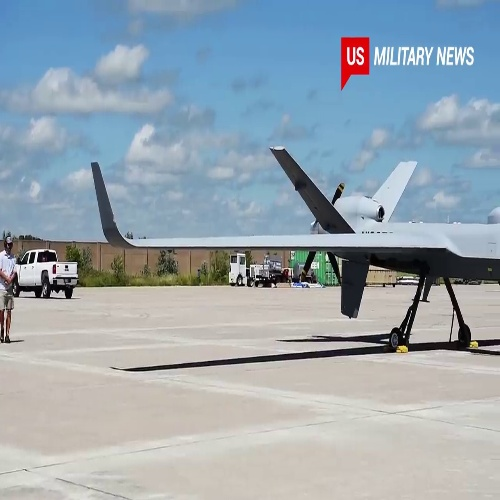uav: (92, 147, 498, 350)
